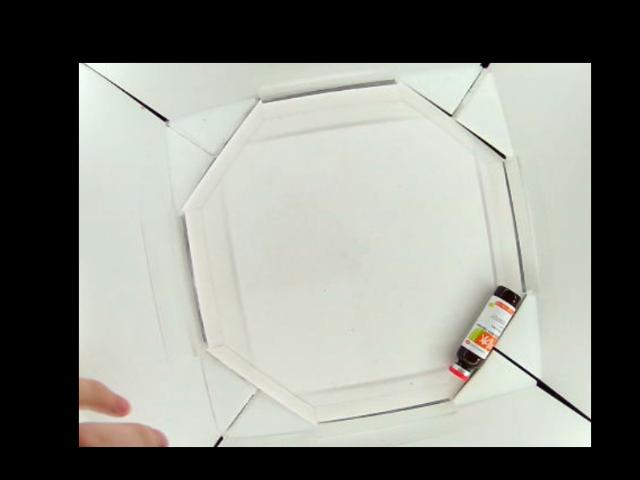Medicine: (450, 285, 521, 378)
